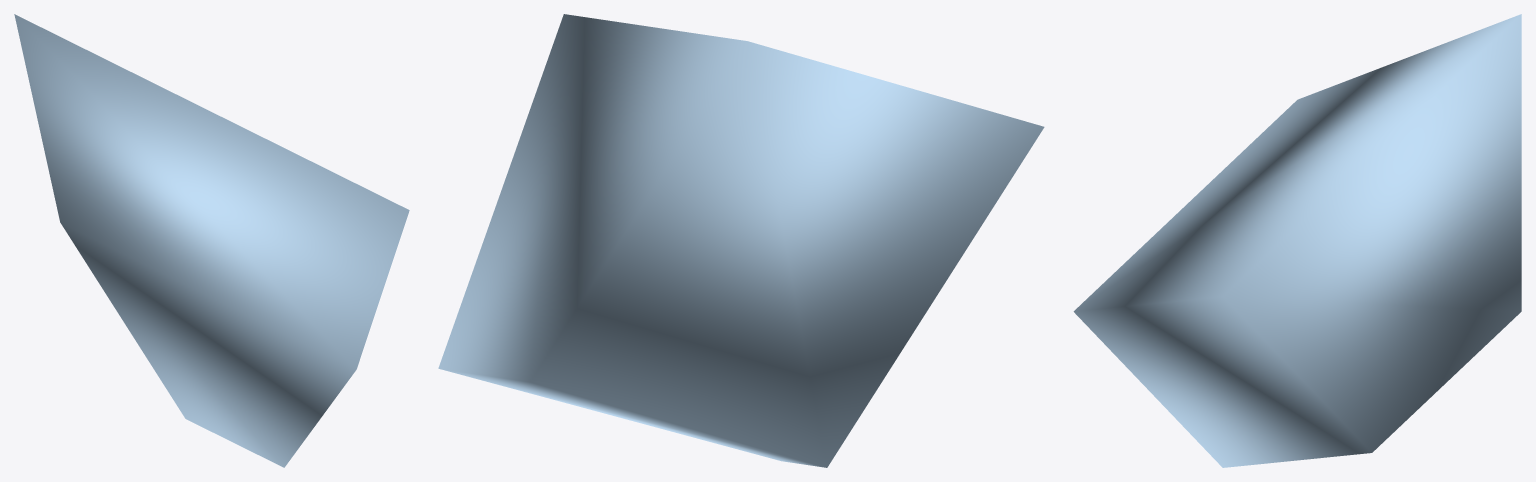
Rendered from amethyst.glb.
3 renders of one model, left to right at view 1: azimuth 30°, elevation 25°; view 2: azimuth 150°, elevation 25°; view 3: azimuth 270°, elevation 25°, orthographic. The views are drawn at different scales.
Parts seen in each view (by area): view 1: amethyst; view 2: amethyst; view 3: amethyst.
Part boxes in pixels (left/top/right/bottom): amethyst: left=14, top=14, right=409, bottom=467; amethyst: left=438, top=14, right=1044, bottom=467; amethyst: left=1073, top=14, right=1521, bottom=467.
Bounding box in the file's own units: 1.15 × 1.32 × 1.37.
